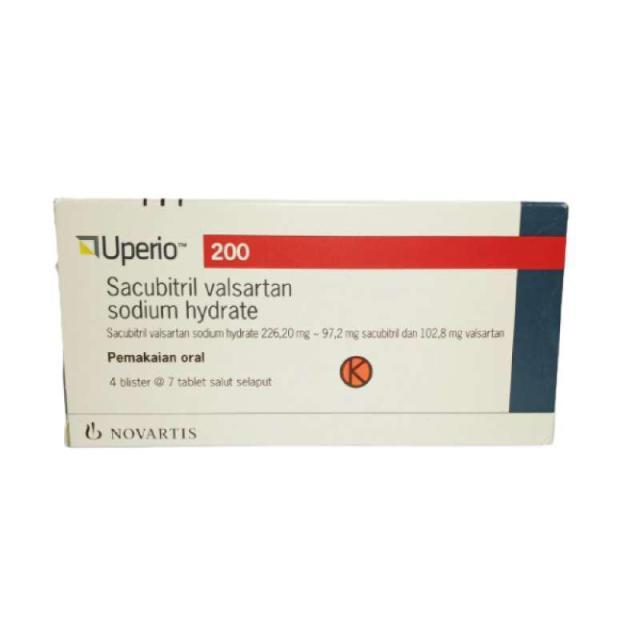drug-name: (102, 232, 256, 270)
